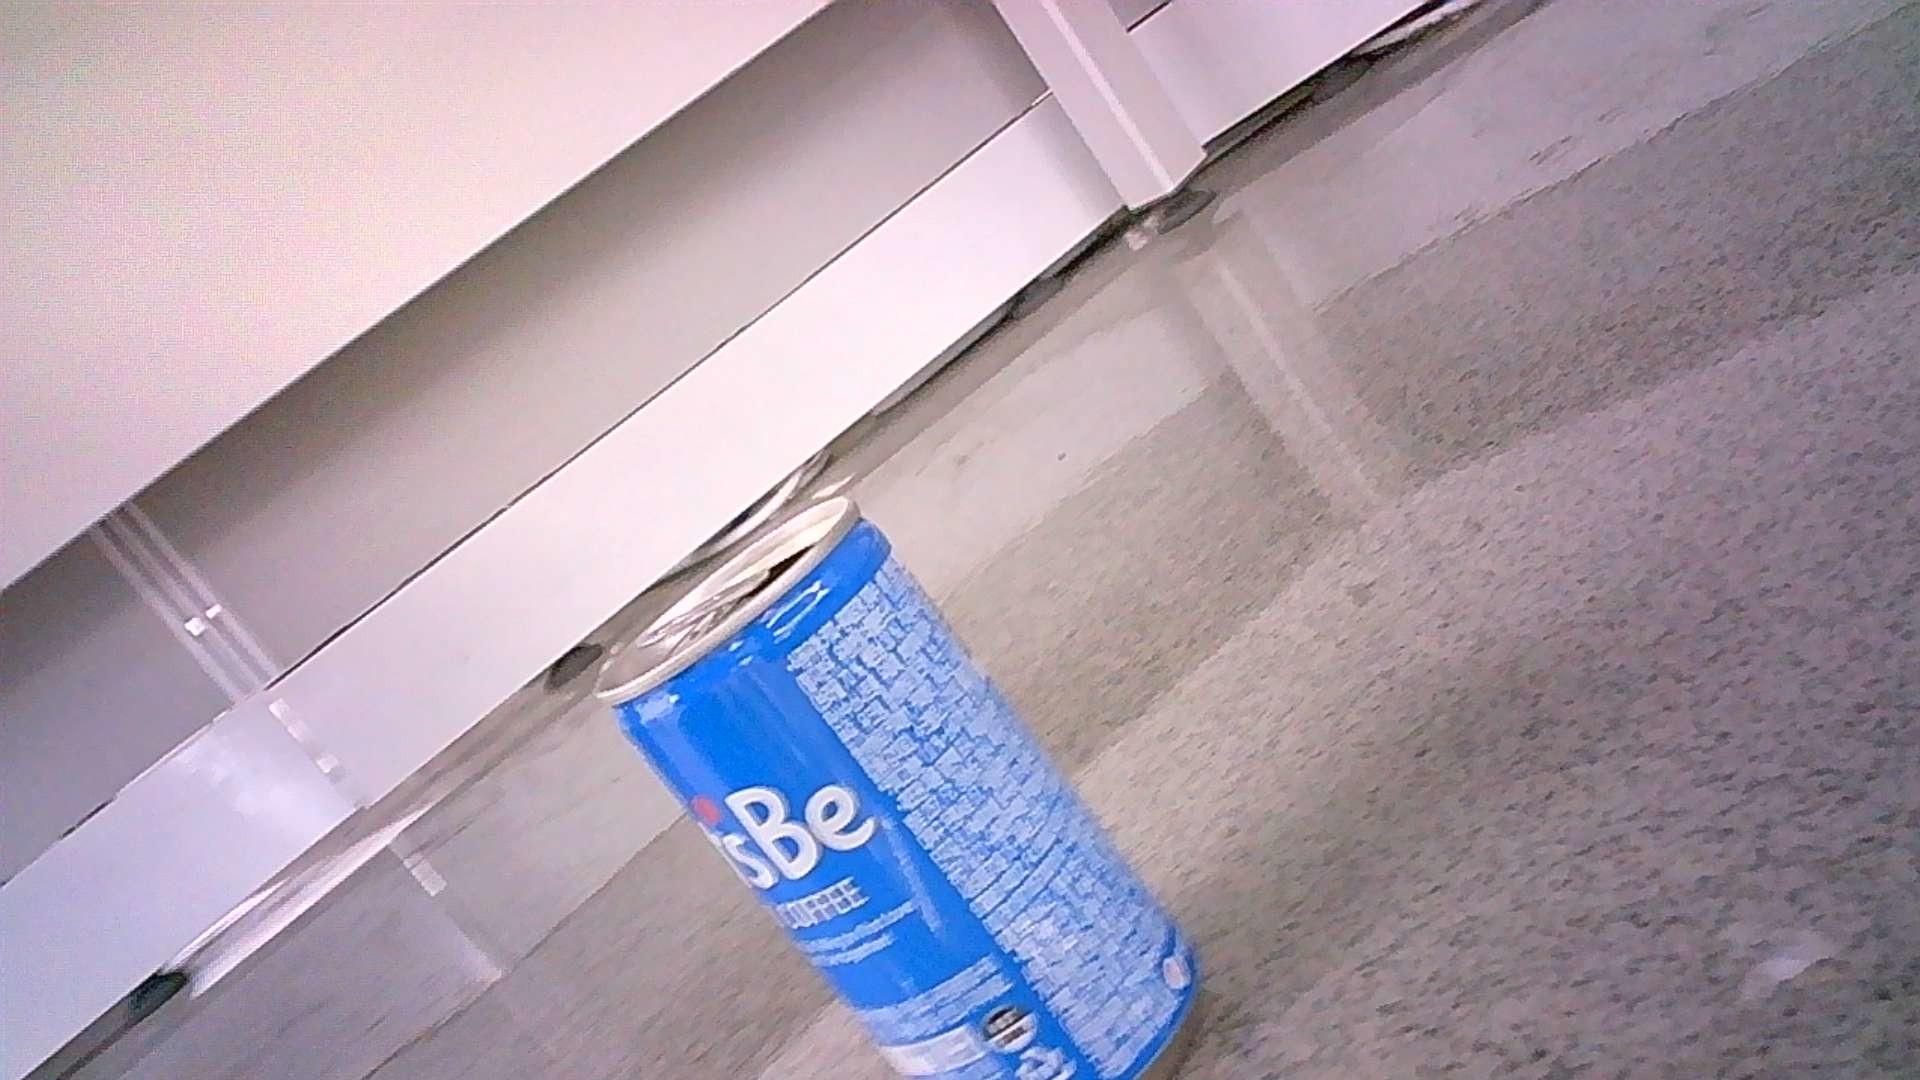letsbe: (596, 492, 1204, 1080)
